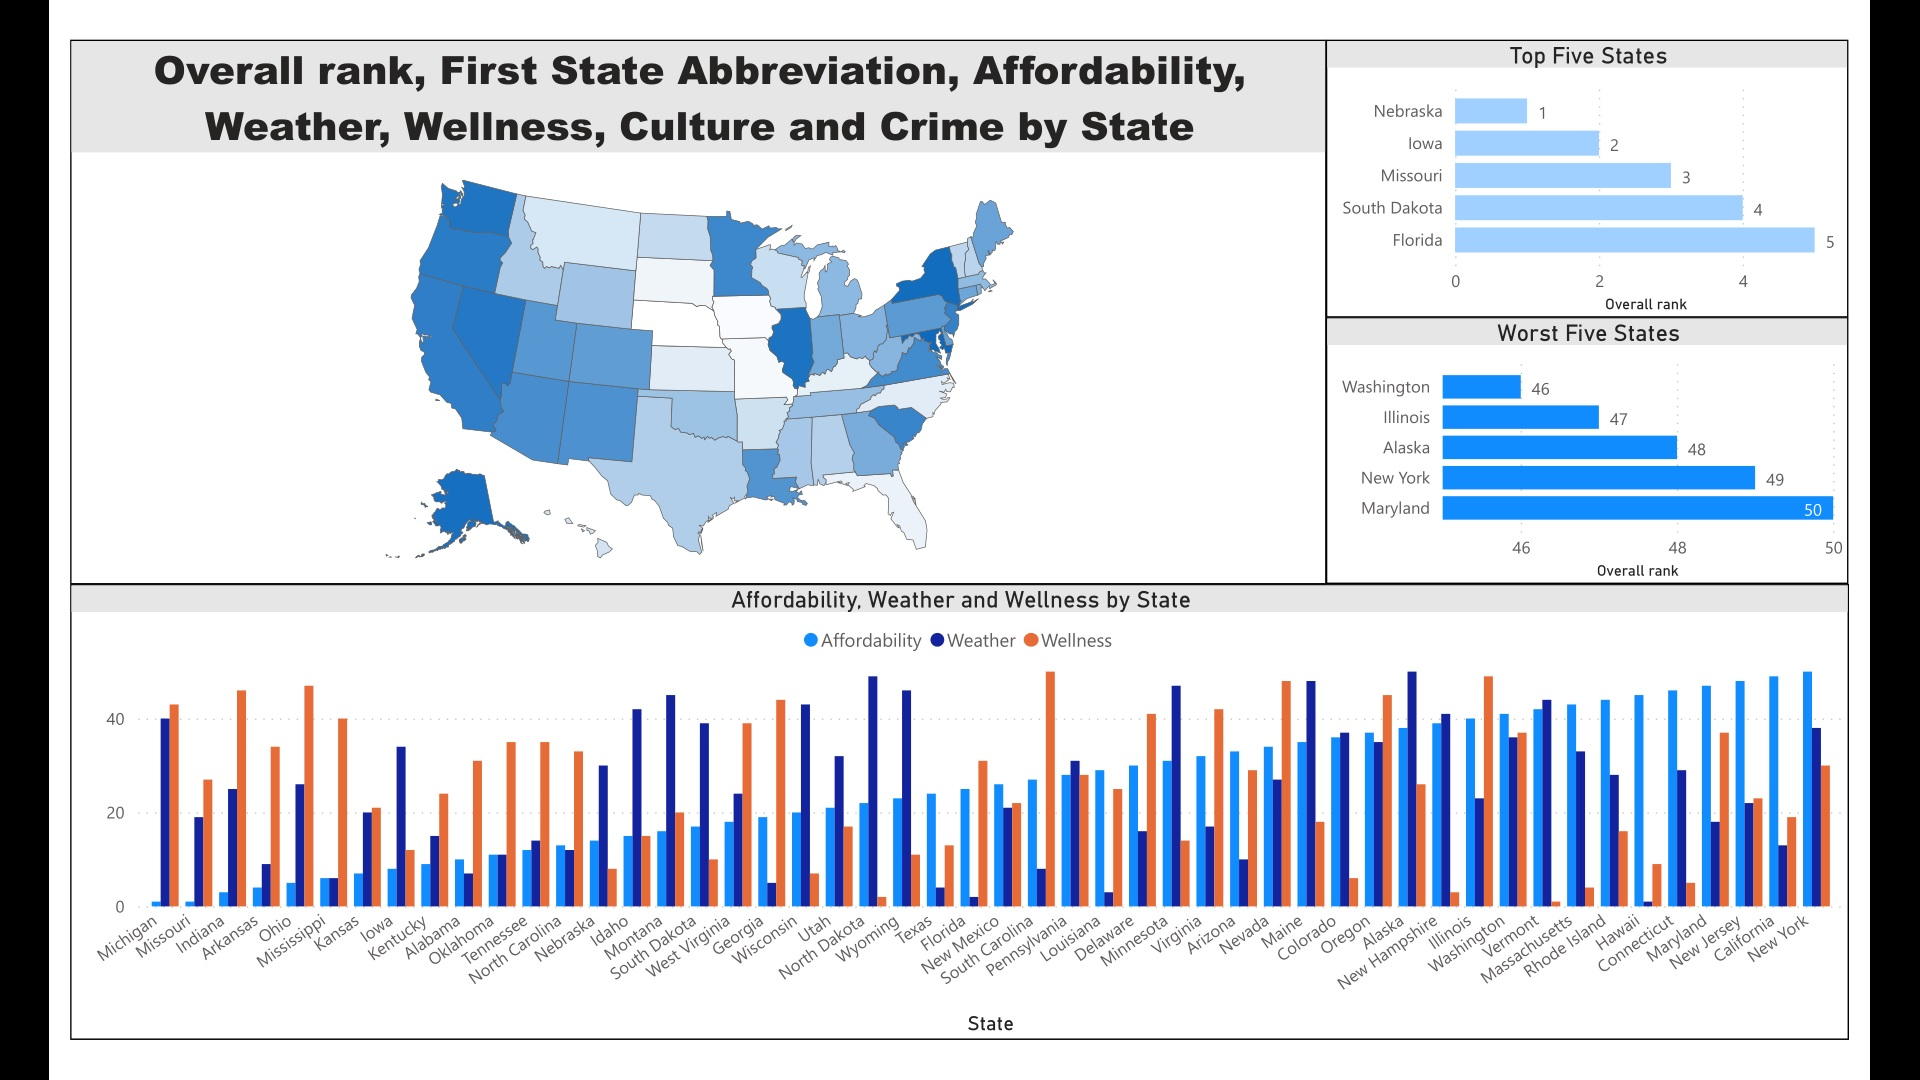

What the dashboard file says about the page in this screenshot:
{"tool":"powerbi","page":{"name":"US States Ranked","canvas":[1280,720],"ordinal":0},"visuals":[{"type":"shapeMap","fields":{"Category":["Retirement_States.State"],"Value":["Sum(Retirement_States.Overall rank)"]},"box":[7.9,0,893.9,391.8],"z":0},{"type":"clusteredColumnChart","fields":{"Y":["Sum(Retirement_States.Affordability)","Sum(Retirement_States.Weather)","Sum(Retirement_States.Wellness)"],"Category":["Retirement_States.State"]},"box":[0,392.4,1280,327.4],"z":1000},{"type":"clusteredBarChart","title":"Top Five States","fields":{"Y":["Sum(Retirement_States.Overall rank)"],"Category":["Retirement_States.State"]},"box":[903.5,0,376.5,196.2],"z":2000},{"type":"clusteredBarChart","title":"Worst Five States","fields":{"Y":["Sum(Retirement_States.Overall rank)"],"Category":["Retirement_States.State"]},"box":[903.5,196.2,376.5,196.2],"z":3000}]}

Visuals, with their boxes in screenshot pixels (x1, y1, x2, y2), scaled from the page's 1280x720 canvas onto the 1920x1080 screenshot:
shapeMap - Retirement_States.State x Sum(Retirement_States.Overall rank): detection(12, 0, 1353, 588)
clusteredColumnChart - Sum(Retirement_States.Affordability) x Sum(Retirement_States.Weather): detection(0, 589, 1919, 1079)
"Top Five States" clusteredBarChart: detection(1355, 0, 1919, 294)
"Worst Five States" clusteredBarChart: detection(1355, 294, 1919, 589)
